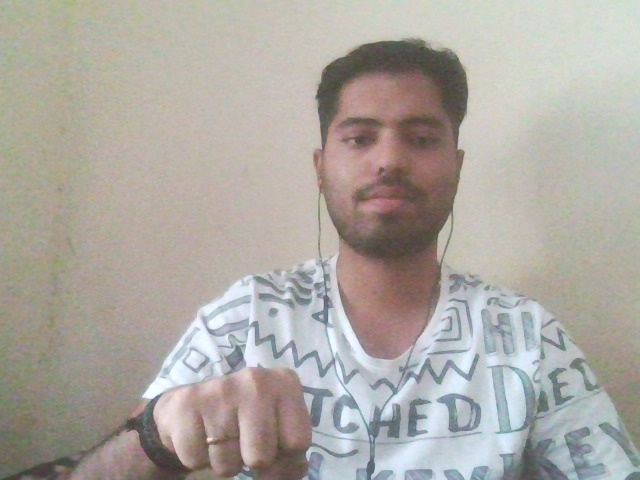Yes: (109, 363, 329, 475)
